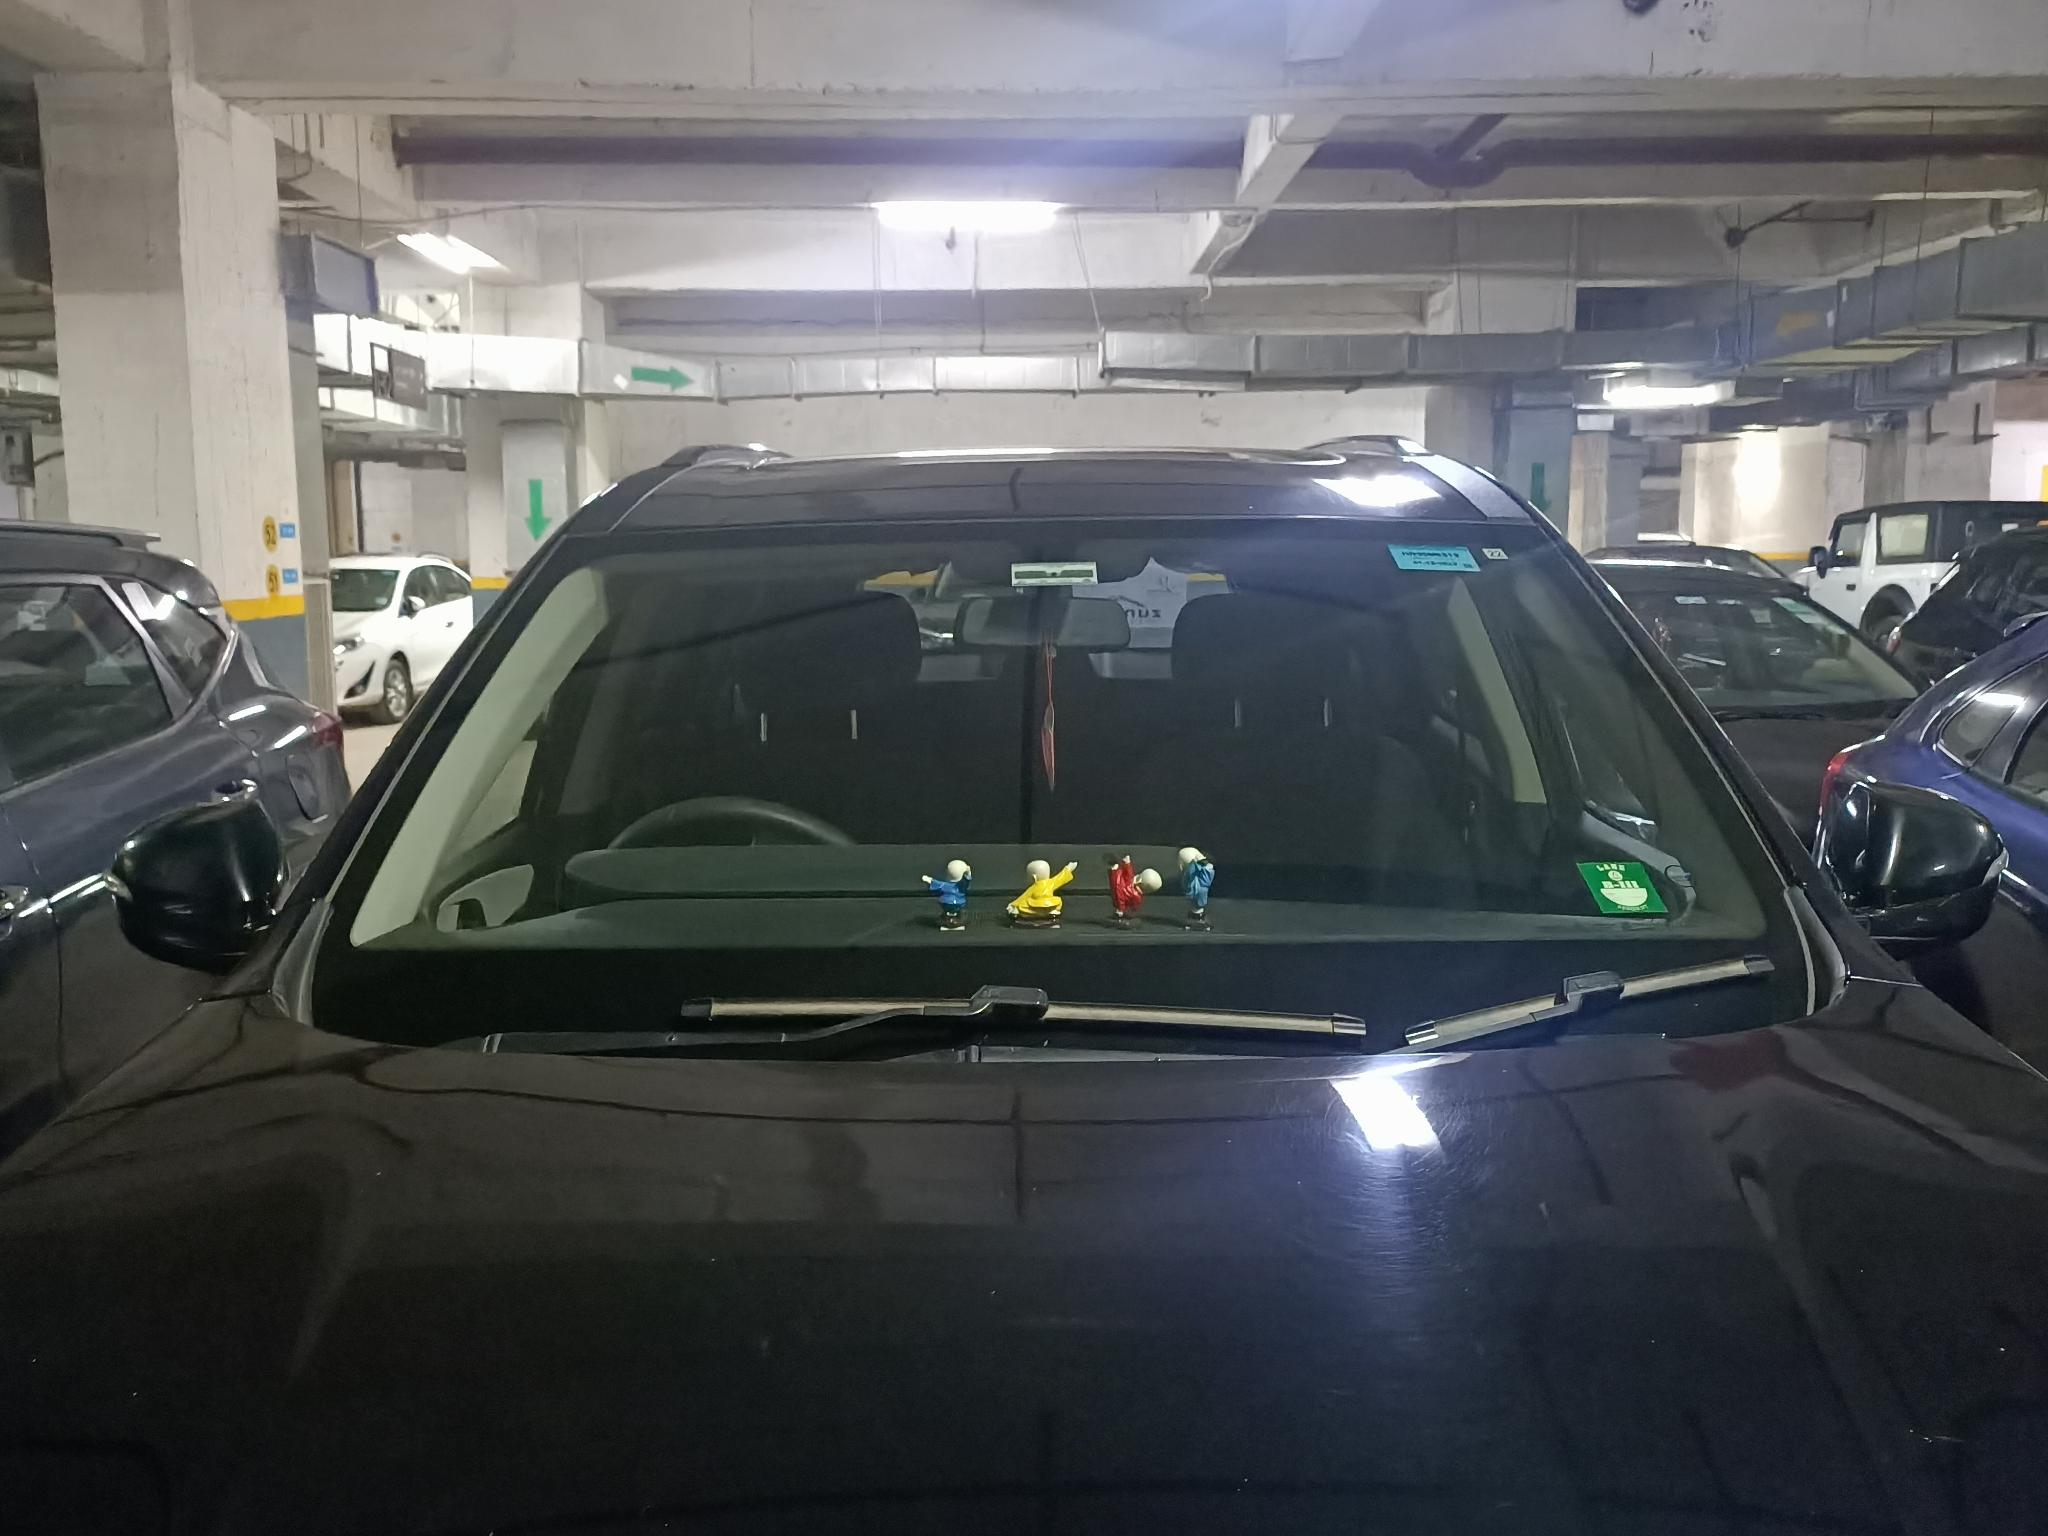FastTag: (992, 547, 1113, 599)
not a FastTag: (1538, 841, 1675, 921), (1353, 531, 1516, 582)
